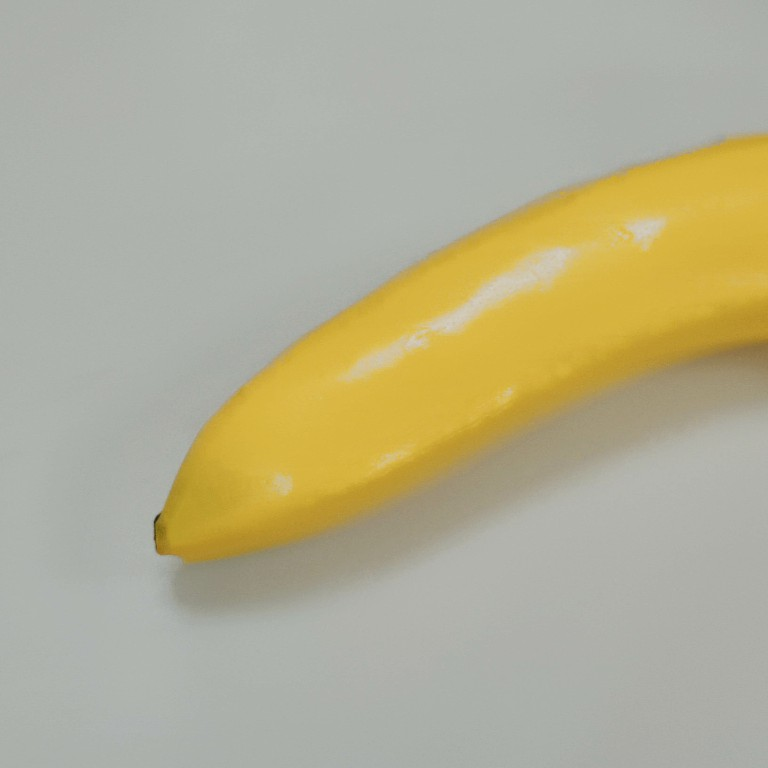fruit_banana: (150, 121, 768, 578)
